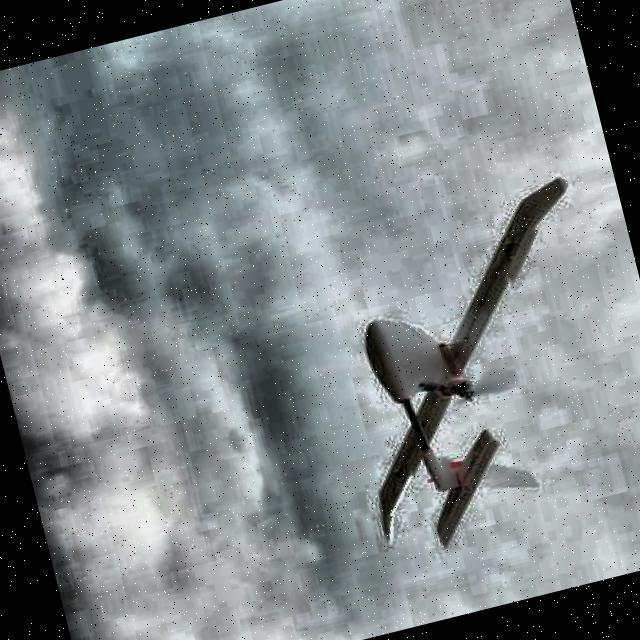iha: (306, 174, 640, 559)
